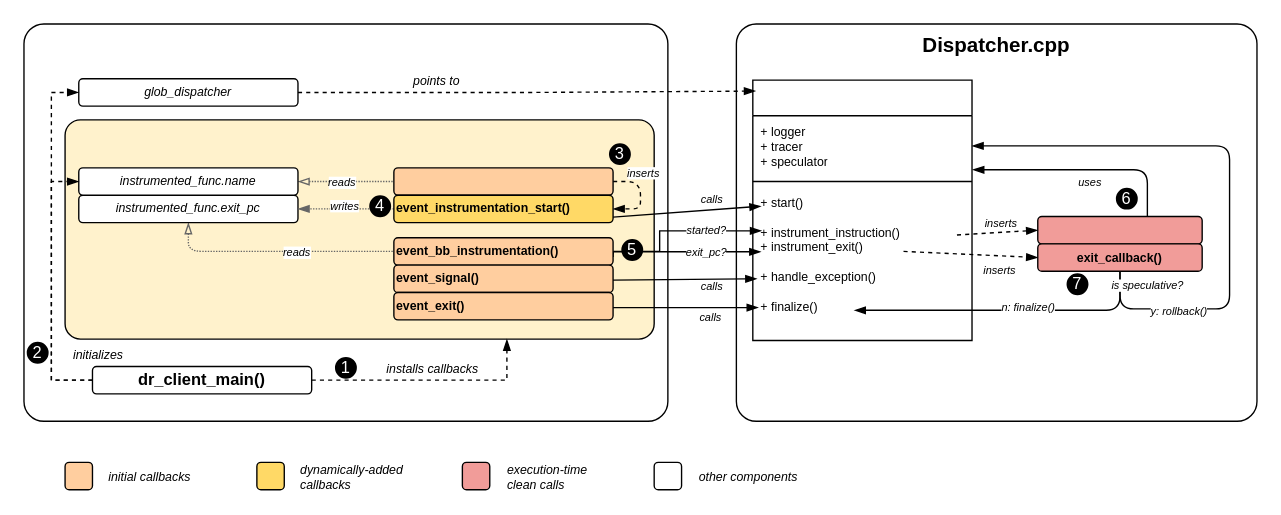
Image size: 1281x515. Some labels were removed from this diagram. The box of each missing label's shape, as (x1, y1, x2, y2) in pixels:
dispatch_callback(): (1036, 215, 1202, 244)
Dispatcher: (751, 79, 972, 340)
event_module_load(): (393, 166, 613, 195)
Model.cpp: (23, 23, 668, 421)
namespace dr_model: (64, 119, 654, 339)
